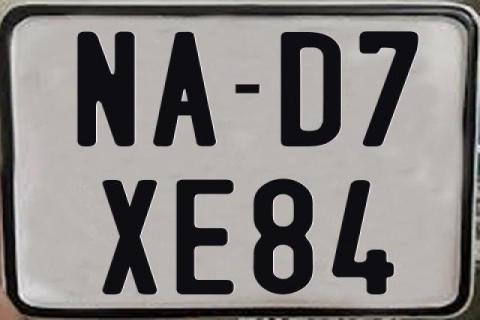0: (329, 178, 397, 294), (359, 29, 421, 149), (250, 178, 314, 294)
A: (152, 32, 218, 148)
D: (278, 31, 344, 149)
E: (175, 178, 233, 298)
N: (74, 29, 134, 145)
X: (102, 178, 159, 292)
